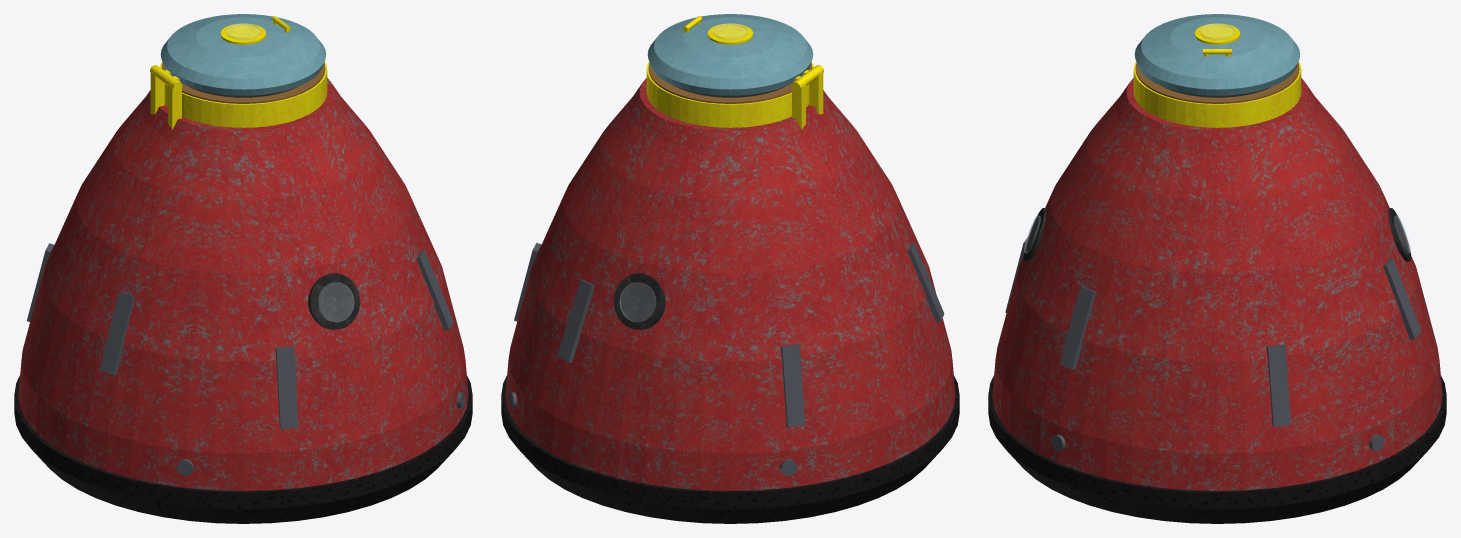
Rendered from Astronomy_Return_capsule__0000.glb.
3 renders of one model, left to right at view 1: azimuth 30°, elevation 25°; view 2: azimuth 150°, elevation 25°; view 3: azimuth 270°, elevation 25°, orthographic.
Parts seen in each view (by area): view 1: capsule::bell_body, capsule::heat_shield, hatch::lid_shell, capsule::hatch_collar, capsule::porthole_rim_1, capsule::scorch_streak_4, capsule::scorch_streak_3, capsule::hatch_seal_ring, capsule::porthole_glass_1, capsule::scorch_streak_5, hatch::viewport_rim; view 2: capsule::bell_body, capsule::heat_shield, hatch::lid_shell, capsule::hatch_collar, capsule::porthole_rim_0, capsule::scorch_streak_2, capsule::scorch_streak_1, capsule::hatch_seal_ring, capsule::porthole_glass_0, capsule::scorch_streak_3, hatch::viewport_rim; view 3: capsule::bell_body, capsule::heat_shield, hatch::lid_shell, capsule::hatch_collar, capsule::scorch_streak_0, capsule::scorch_streak_5, capsule::hatch_seal_ring, capsule::scorch_streak_1, hatch::viewport_rim, capsule::porthole_rim_0, capsule::porthole_rim_1.
Boxes of the visible parts, x1=… form: capsule::bell_body: x1=18, y1=78, x2=468, y2=490; capsule::heat_shield: x1=14, y1=376, x2=472, y2=523; hatch::lid_shell: x1=160, y1=14, x2=326, y2=95; capsule::hatch_collar: x1=160, y1=61, x2=327, y2=127; capsule::porthole_rim_1: x1=308, y1=273, x2=360, y2=329; capsule::scorch_streak_4: x1=275, y1=346, x2=298, y2=428; capsule::scorch_streak_3: x1=99, y1=291, x2=135, y2=375; capsule::hatch_seal_ring: x1=161, y1=63, x2=325, y2=103; capsule::porthole_glass_1: x1=318, y1=282, x2=353, y2=321; capsule::scorch_streak_5: x1=416, y1=250, x2=453, y2=330; hatch::viewport_rim: x1=220, y1=23, x2=266, y2=44; capsule::bell_body: x1=505, y1=78, x2=955, y2=490; capsule::heat_shield: x1=501, y1=376, x2=959, y2=523; hatch::lid_shell: x1=647, y1=14, x2=813, y2=95; capsule::hatch_collar: x1=646, y1=61, x2=813, y2=127; capsule::porthole_rim_0: x1=613, y1=273, x2=665, y2=329; capsule::scorch_streak_2: x1=780, y1=344, x2=805, y2=427; capsule::scorch_streak_1: x1=557, y1=279, x2=594, y2=362; capsule::hatch_seal_ring: x1=648, y1=63, x2=812, y2=103; capsule::porthole_glass_0: x1=620, y1=282, x2=655, y2=321; capsule::scorch_streak_3: x1=907, y1=242, x2=944, y2=322; hatch::viewport_rim: x1=707, y1=23, x2=753, y2=44; capsule::bell_body: x1=992, y1=78, x2=1442, y2=490; capsule::heat_shield: x1=988, y1=376, x2=1446, y2=523; hatch::lid_shell: x1=1134, y1=14, x2=1300, y2=95; capsule::hatch_collar: x1=1133, y1=61, x2=1301, y2=127; capsule::scorch_streak_0: x1=1266, y1=344, x2=1291, y2=427; capsule::scorch_streak_5: x1=1059, y1=286, x2=1095, y2=369; capsule::hatch_seal_ring: x1=1135, y1=63, x2=1299, y2=103; capsule::scorch_streak_1: x1=1383, y1=258, x2=1421, y2=339; hatch::viewport_rim: x1=1194, y1=23, x2=1240, y2=44; capsule::porthole_rim_0: x1=1388, y1=208, x2=1411, y2=261; capsule::porthole_rim_1: x1=1023, y1=208, x2=1046, y2=261.
Size of the model in its own units: 2.52 by 2.6 by 2.52.
Materials: 9 (8 with a texture image).
